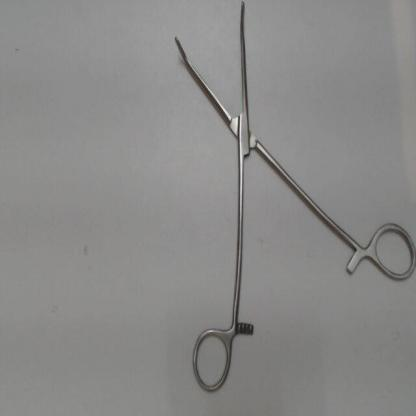Lahey Forceps: (162, 0, 416, 398)
